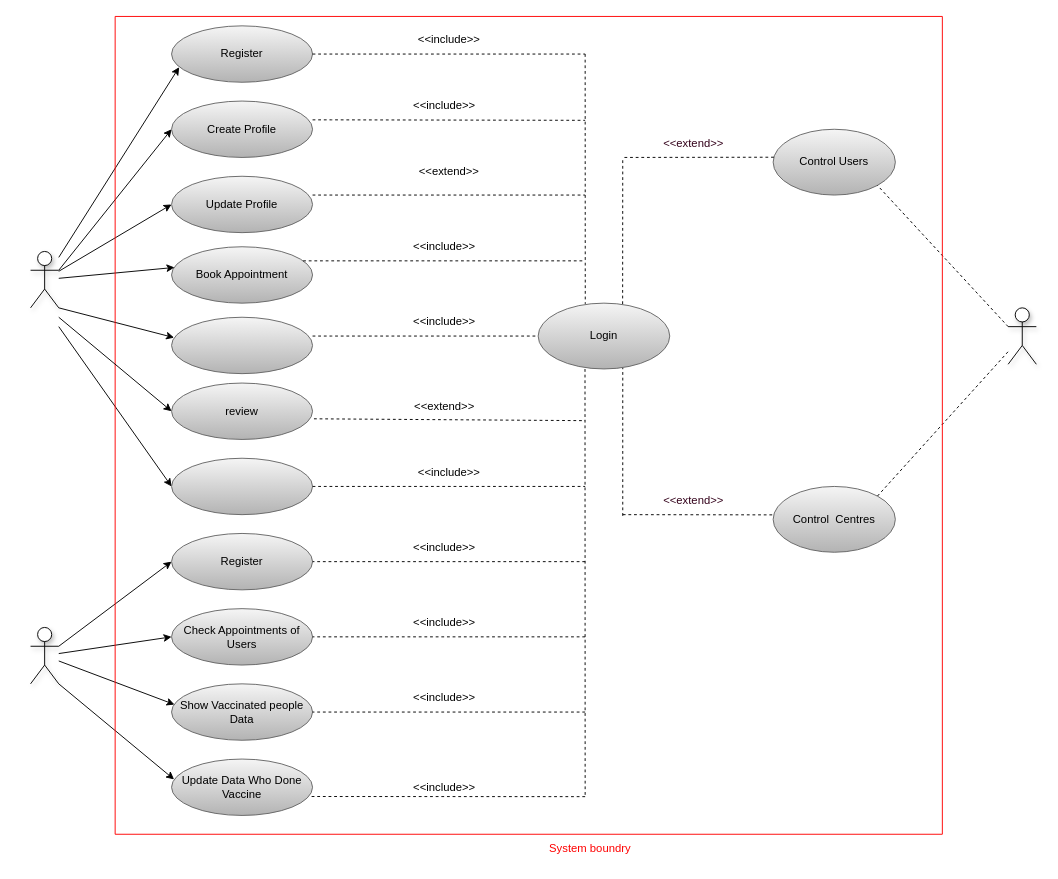
The diagram is 1058 pixels wide and 879 high, and some of its shapes have lost their labels. The shapes that lost their labels are listed below. From the top down, each one's centre as x and y in pixels, then its label:
pixel 45 280: User
pixel 242 345: Check Vaccine Count
pixel 1022 337: Admin
pixel 242 486: Payment
pixel 45 656: Vaccination Center
